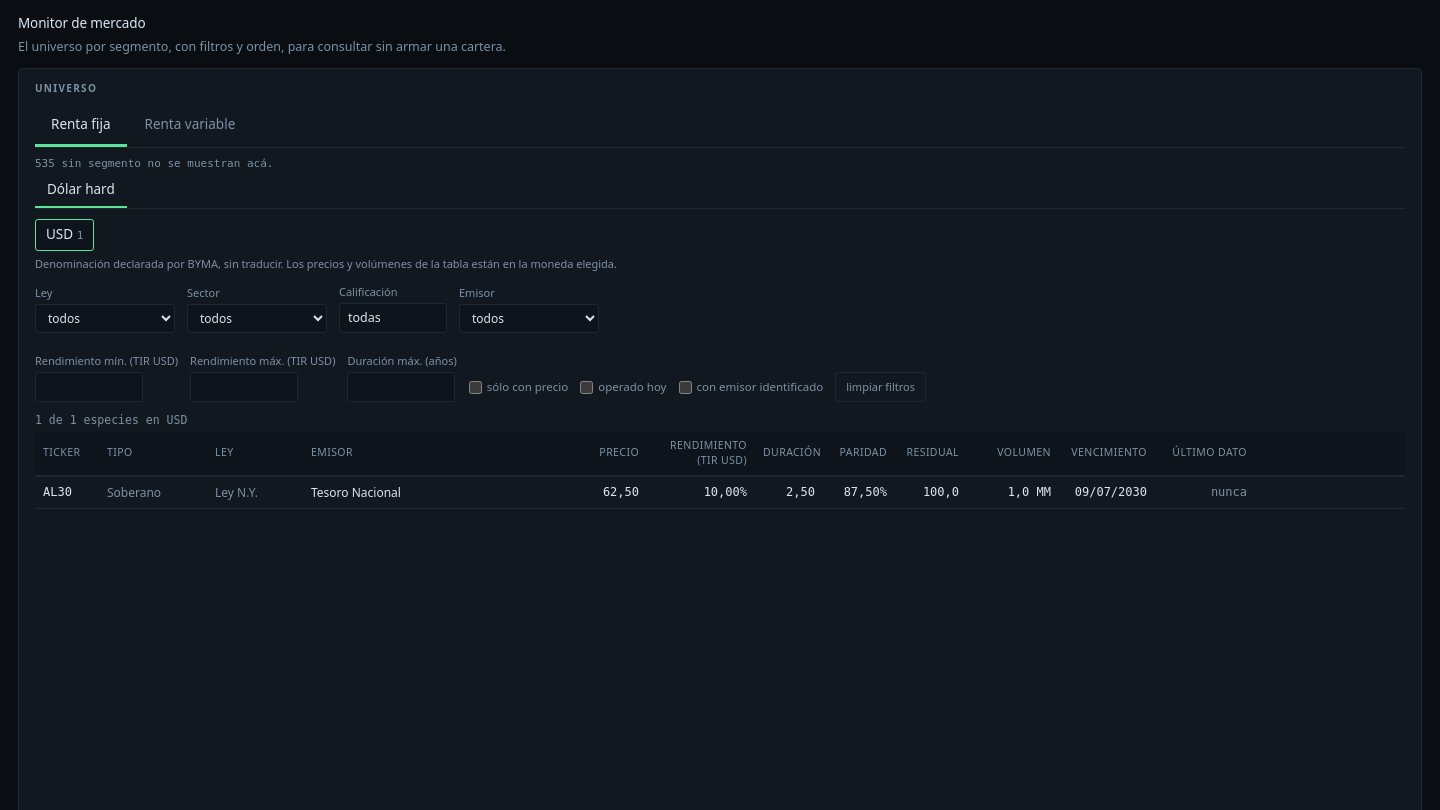
Test: GWT-2: la columna de volumen nunca compara dos monedas › las especies en EXT se muestran igual, en su propia moneda y con su volumen crudo
The width and height of the screenshot is (1440, 810).
What coordinates should you click on to do the following:
click the button "Renta variable"
I would click on:
 (190, 126)
Its box is [128, 105, 251, 147].
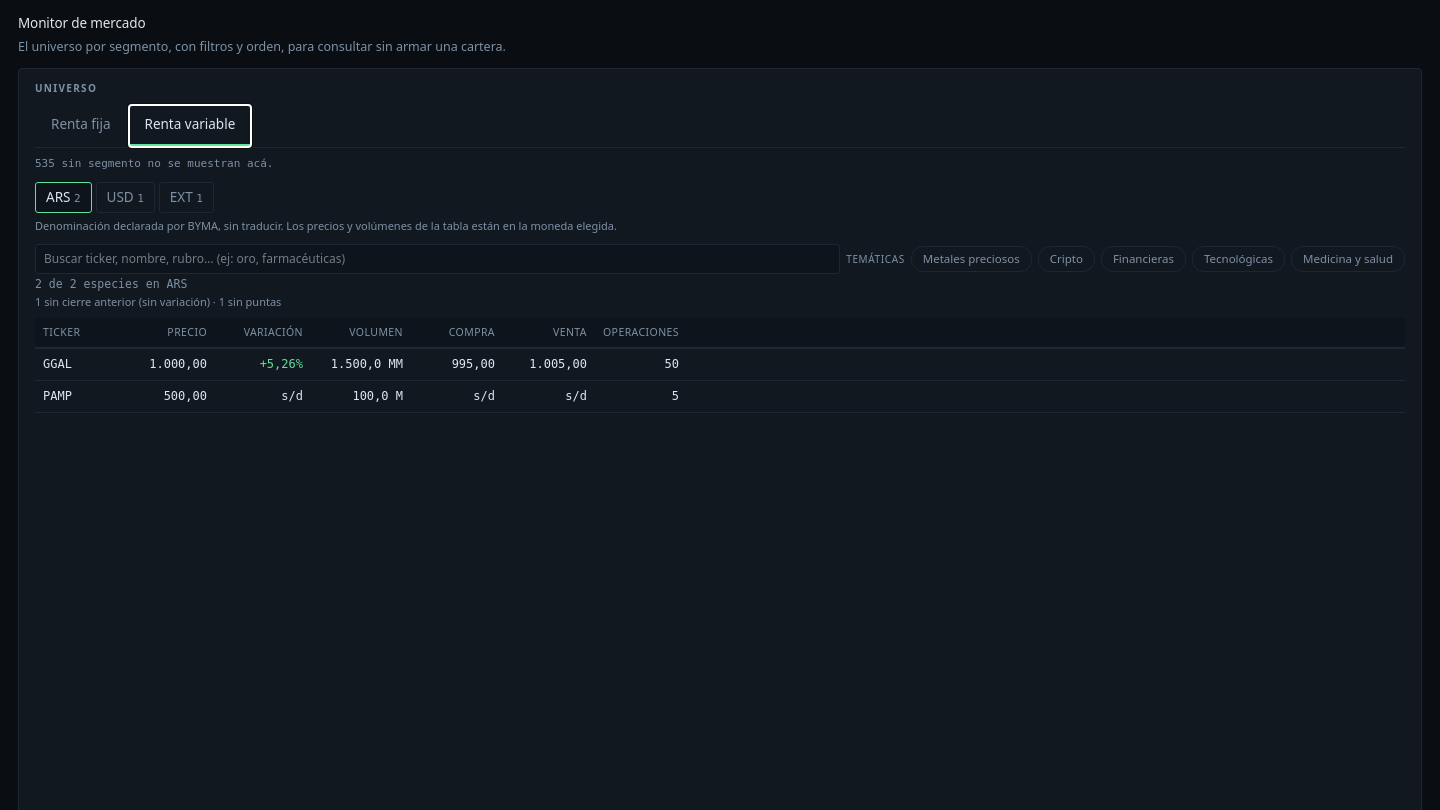
Expected: the text "2 de 2 especies en ARS" is shown, [35, 277, 187, 291]
What coordinates should you click on to do the following:
click the radio button labelled "EXT 1"
I would click on:
 (186, 198)
Its box is [159, 182, 214, 213].
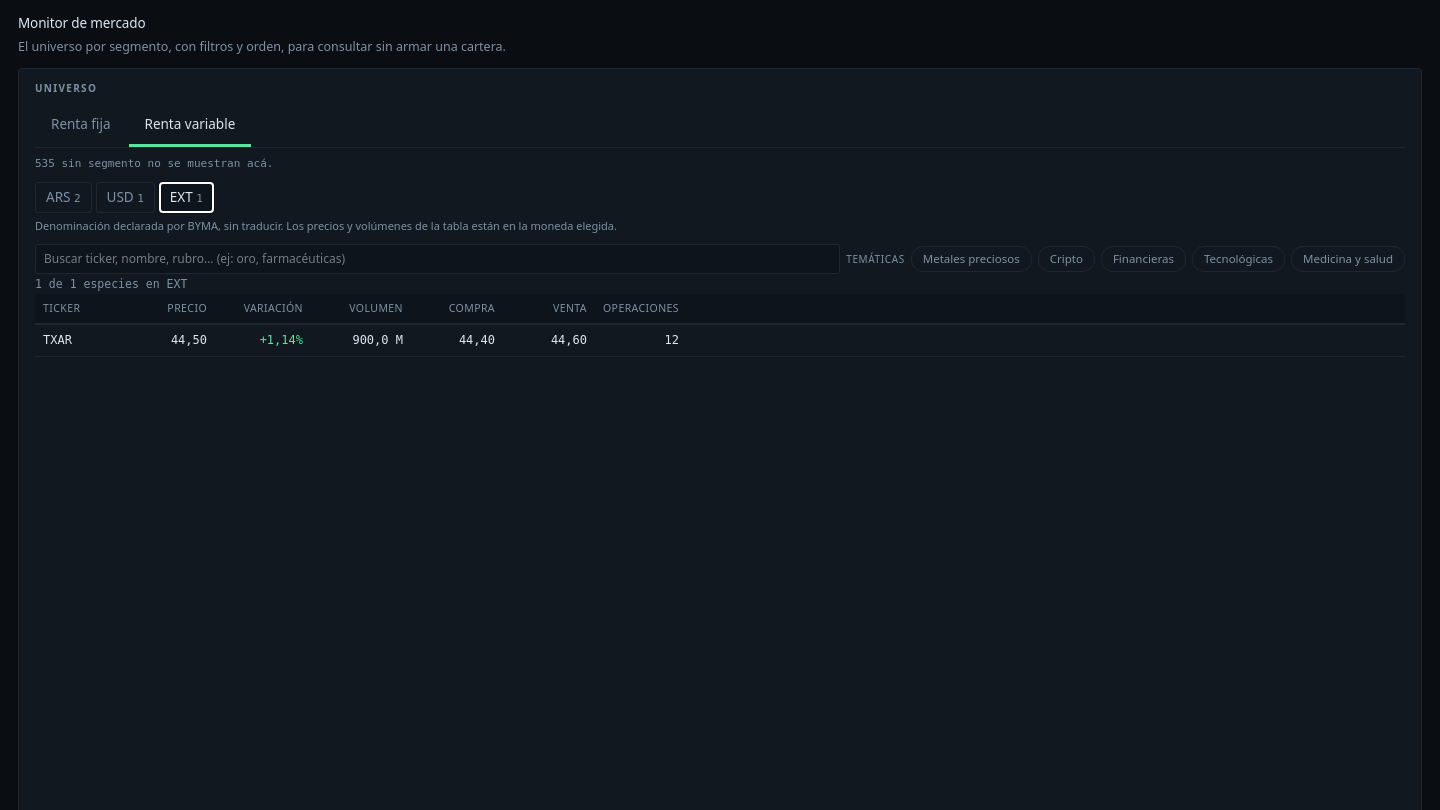
Expected: the text "1 de 1 especies en EXT" is shown, [35, 277, 187, 291]
Expected: the text "TXAR" is shown, [43, 333, 72, 347]
Expected: the text "900,0 M" is shown, [352, 333, 403, 347]
